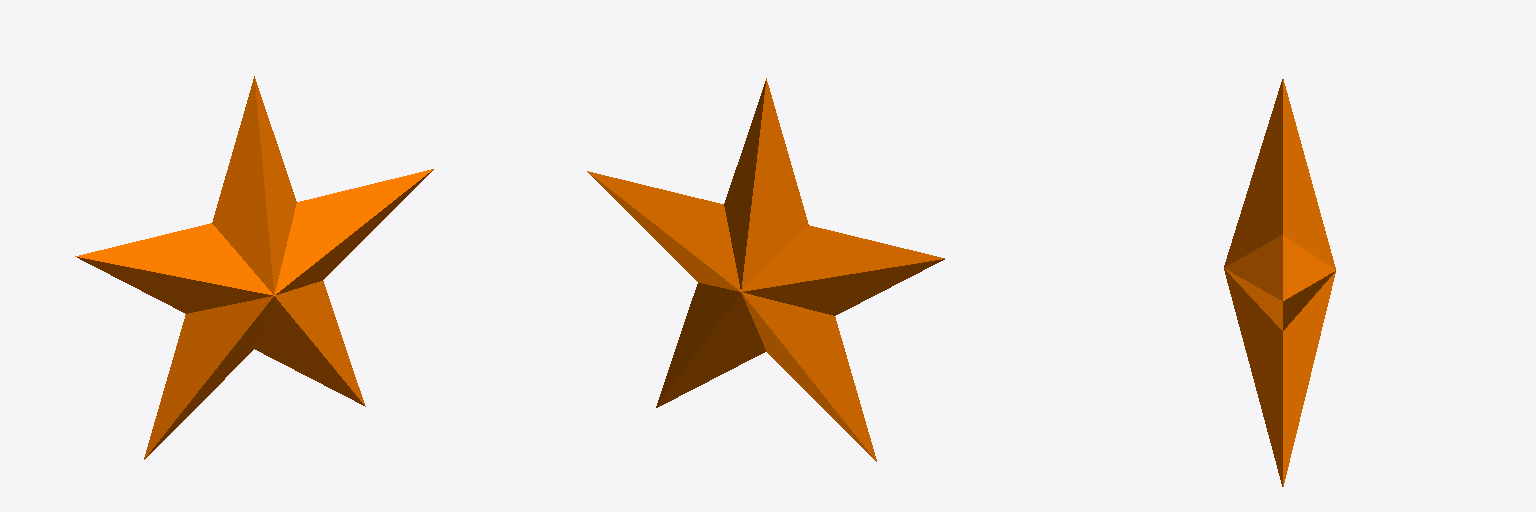
Rendered from star_block.obj.
3 renders of one model, left to right at view 1: azimuth 30°, elevation 25°; view 2: azimuth 150°, elevation 25°; view 3: azimuth 270°, elevation 25°, orthographic.
Parts seen in each view (by area): view 1: Mesh_Mesh.015; view 2: Mesh_Mesh.015; view 3: Mesh_Mesh.015.
Boxes of the visible parts, x1=… form: Mesh_Mesh.015: x1=75, y1=76, x2=433, y2=459; Mesh_Mesh.015: x1=587, y1=78, x2=944, y2=461; Mesh_Mesh.015: x1=1224, y1=79, x2=1335, y2=486.
Size of the model in its own units: 0.8257 by 0.7853 by 0.2243.